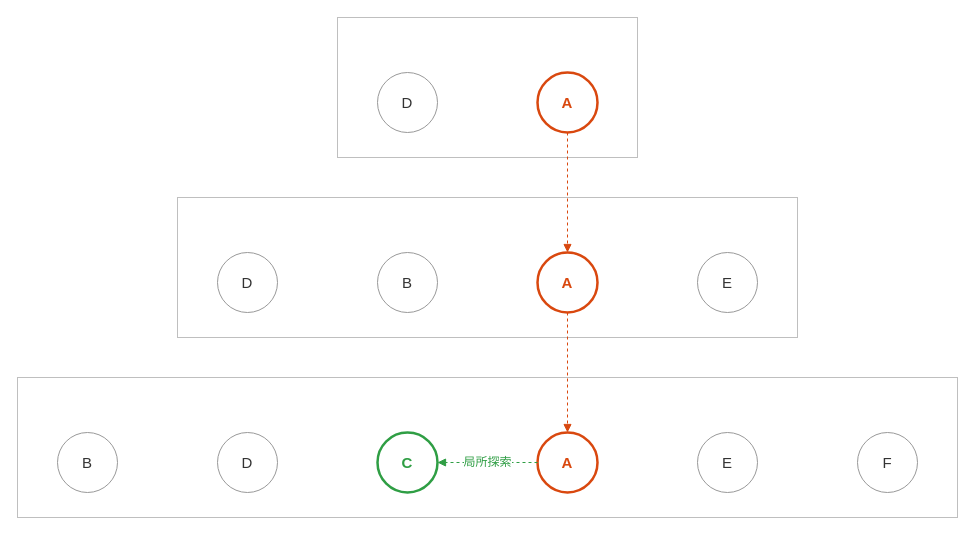
Some shapes in this 975 by 535 pixel diagram are drawn without their labels. The shapes that lost their labels are listed below. From the top down, each one's box as (x1, y1, x2, y2) in pixels, then its label:
(336, 16, 638, 158): Layer 2 — ノード数: 少
(176, 196, 798, 338): Layer 1 — ノード数: 中
(16, 376, 958, 518): Layer 0 — 全ベクトルが登録
